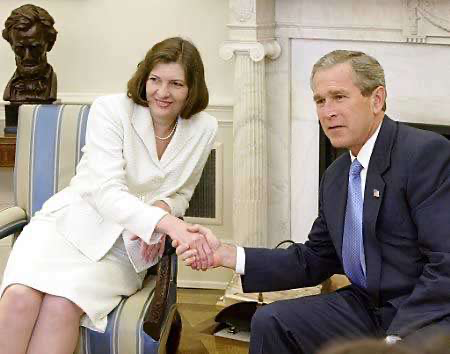Face: (310, 72, 370, 148), (144, 64, 192, 121)
